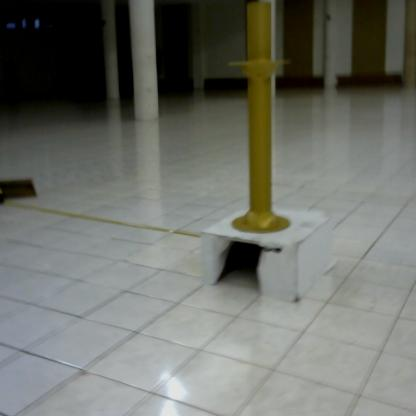pole: (226, 1, 303, 247)
